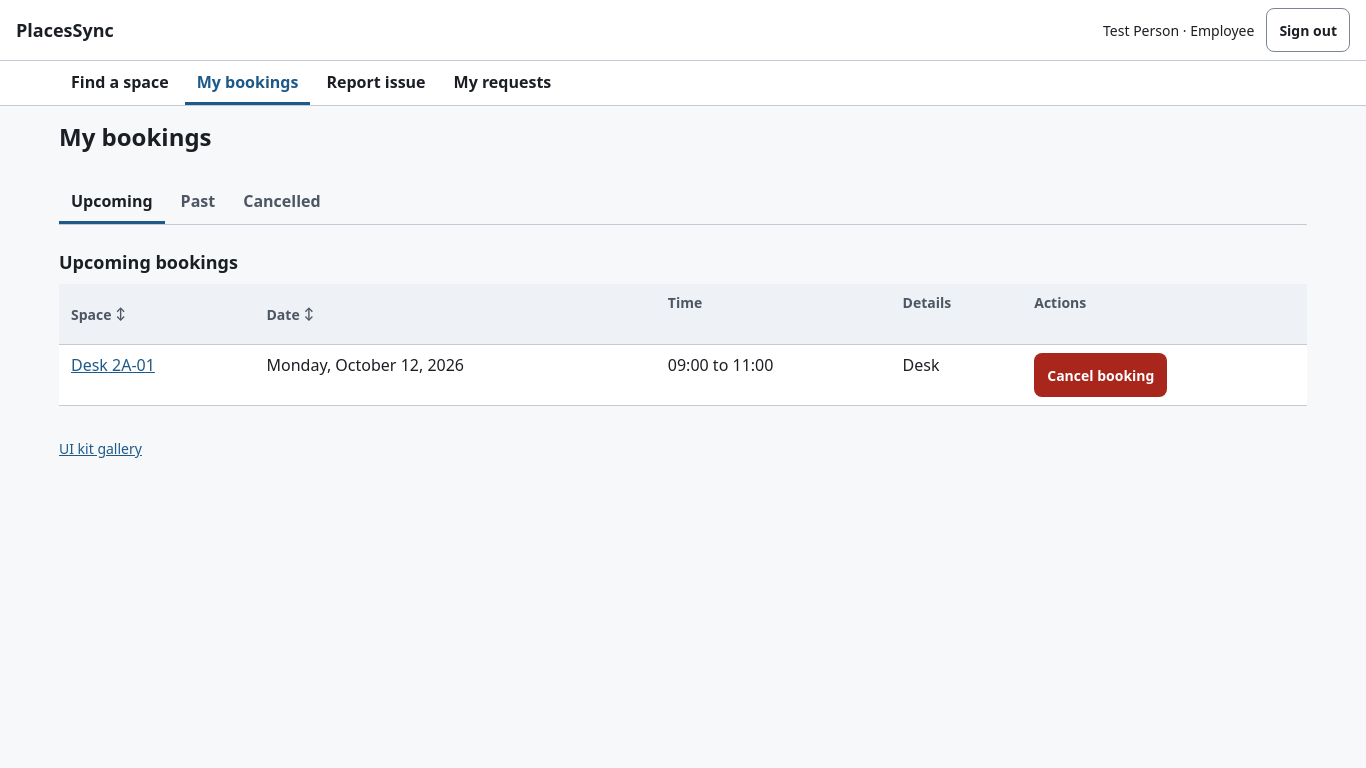
it: My bookings (SPEC 14.1) › cancels with a reason and the row moves to the Cancelled tab
The width and height of the screenshot is (1366, 768).
Click the button named "Cancel booking for Desk 2A-01".
click(1101, 375)  # box top-left (1034, 353), bottom-right (1167, 397)
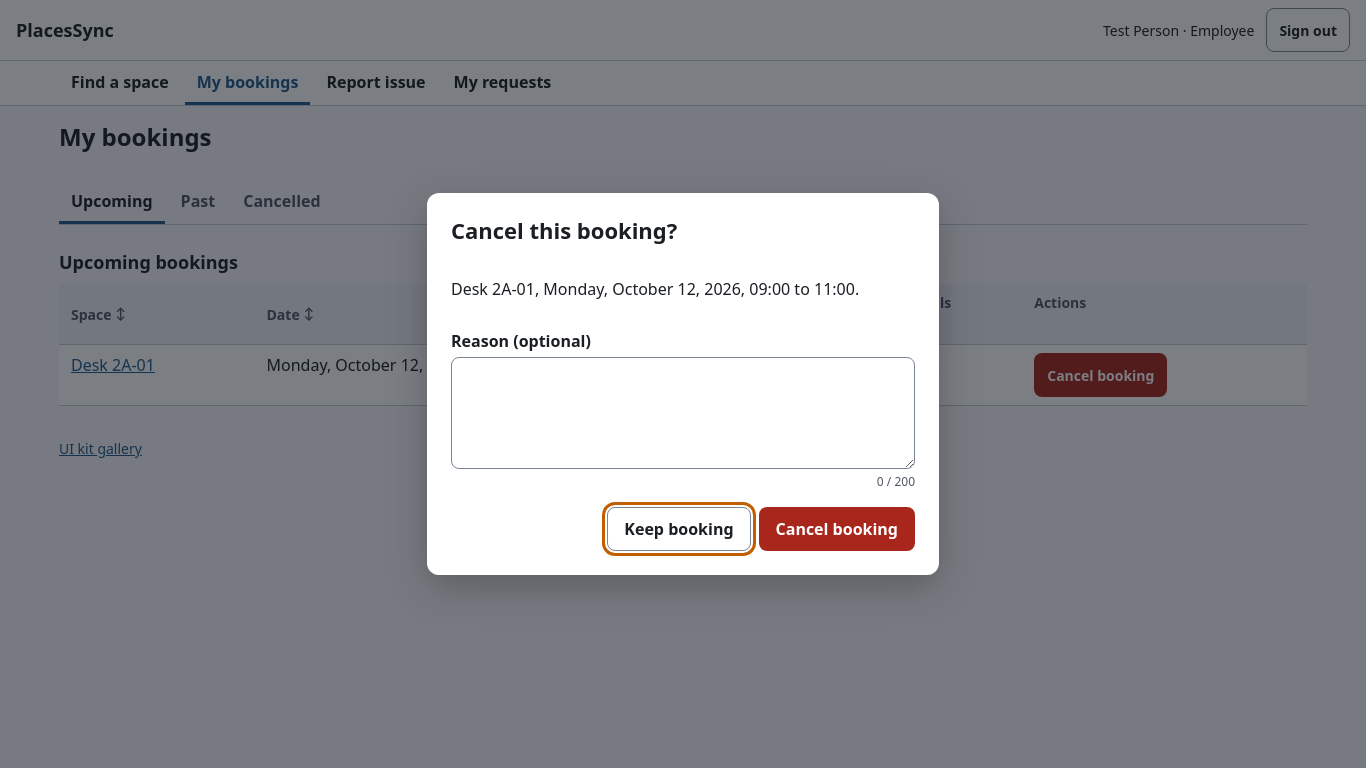
Type "Working from home" into the text box labelled "Reason (optional)".
click(683, 413); type("Working from home")  # box top-left (451, 357), bottom-right (915, 469)
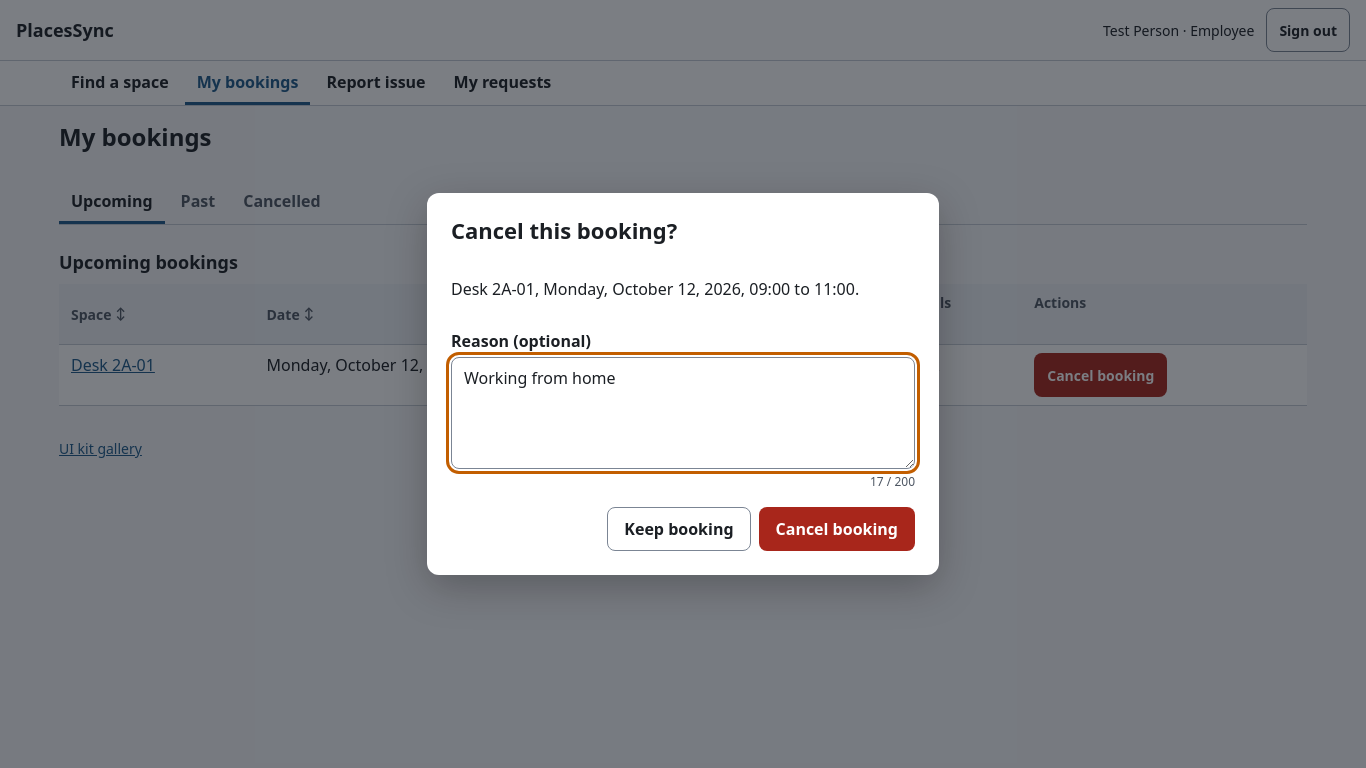
Click the button "Cancel booking".
click(837, 529)  # box top-left (758, 507), bottom-right (915, 551)
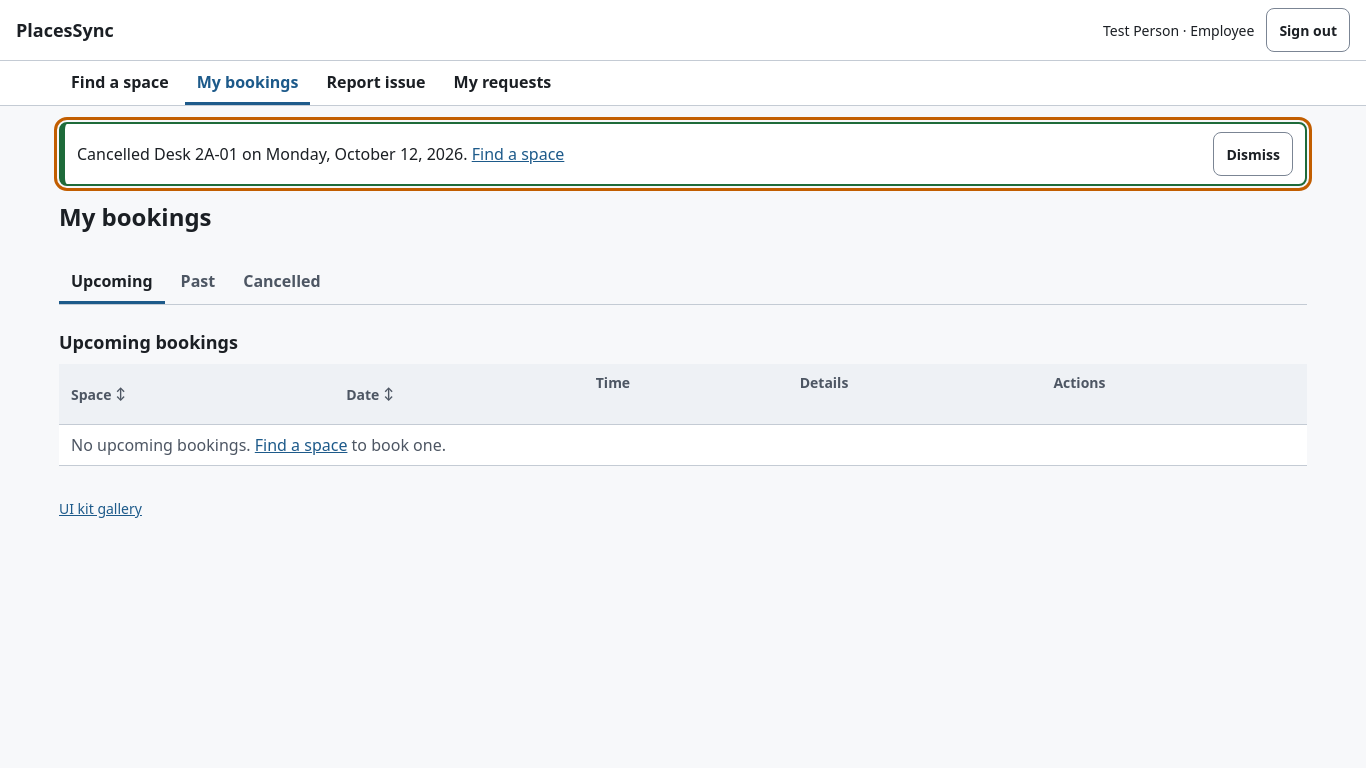
Expected: the dialog is gone
Expected: the element with test id "status-banner" shows "Cancelled Desk 2A-01 on Monday, October 12, 2026.", top-left (77, 143), bottom-right (468, 165)
Click the tab "Cancelled".
click(282, 282)  # box top-left (231, 260), bottom-right (333, 304)
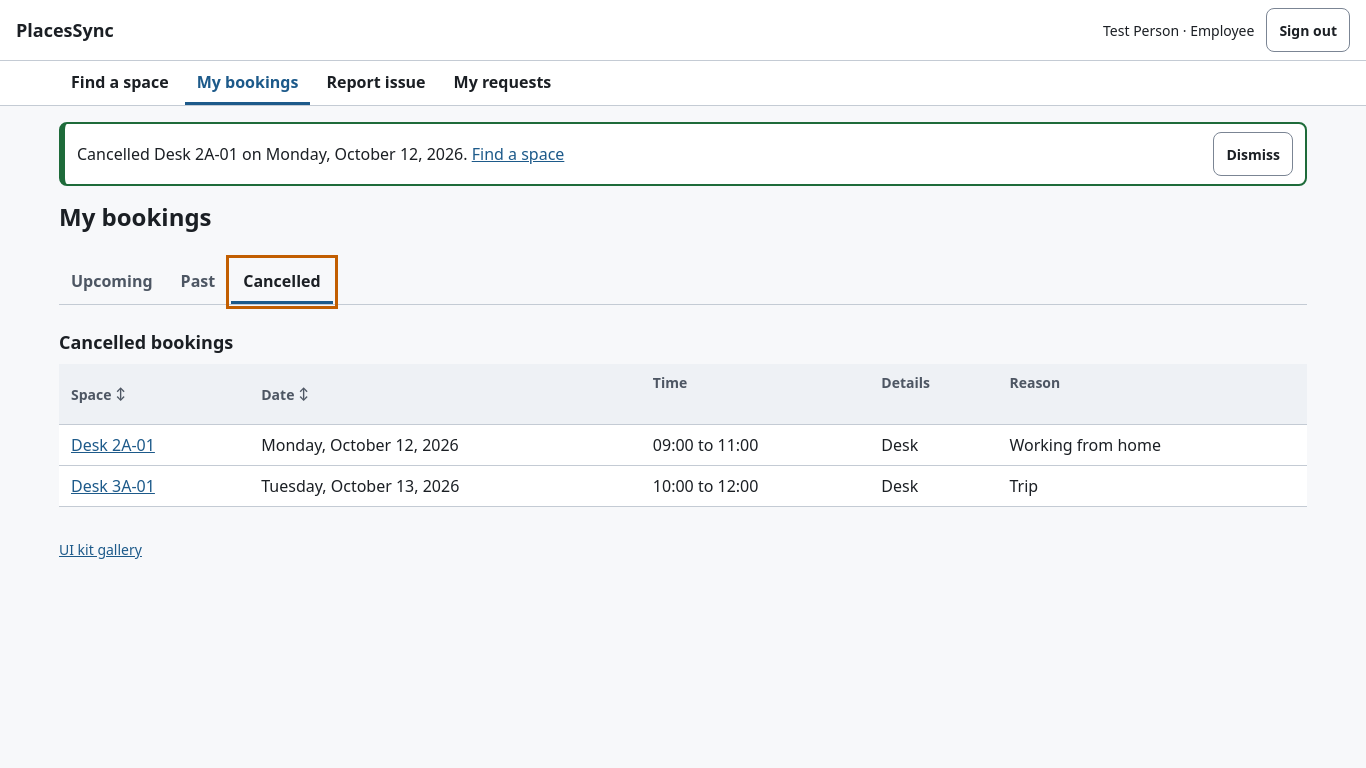
Expected: the text "Working from home" is shown, top-left (997, 424), bottom-right (1307, 466)
